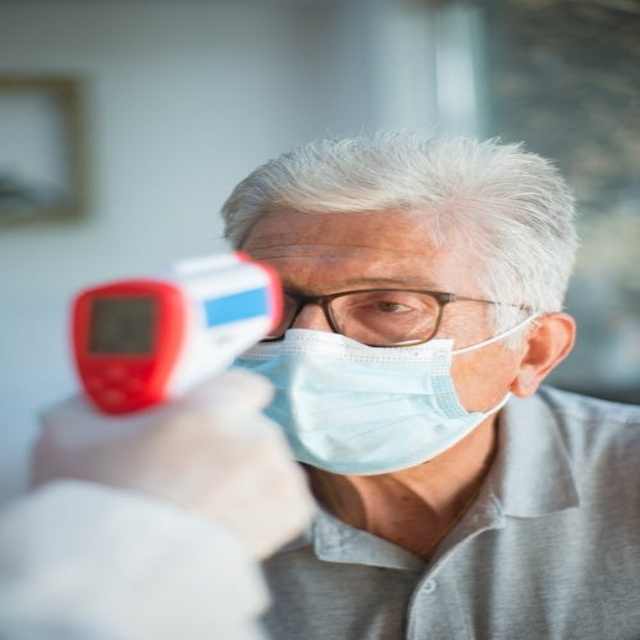Gafas: (249, 287, 539, 344)
Guantes: (29, 359, 317, 555)
Mascara: (234, 314, 529, 475)
